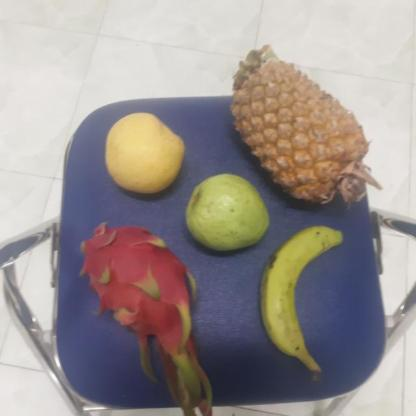banana: (258, 224, 343, 362)
guava: (181, 174, 269, 249)
pear: (100, 108, 188, 196)
pineapple: (226, 52, 371, 203)
pitaya: (73, 226, 199, 358)
